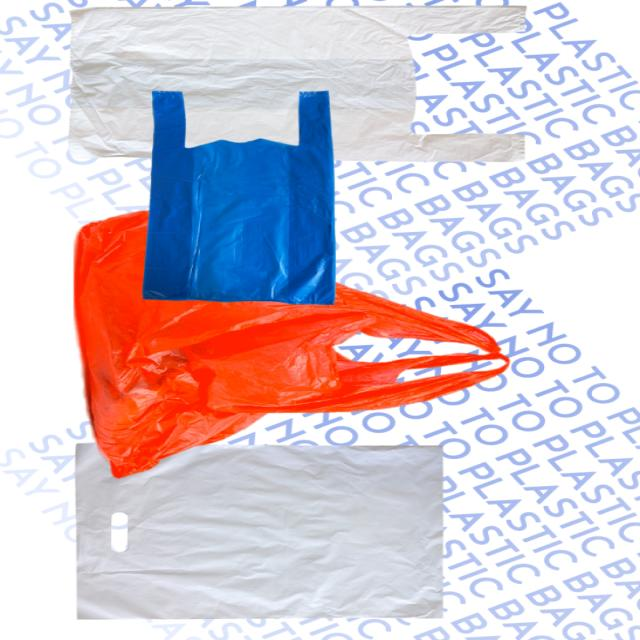Single-layer Plastic: (74, 213, 510, 478), (70, 6, 526, 161), (76, 444, 442, 619), (142, 91, 335, 304)
